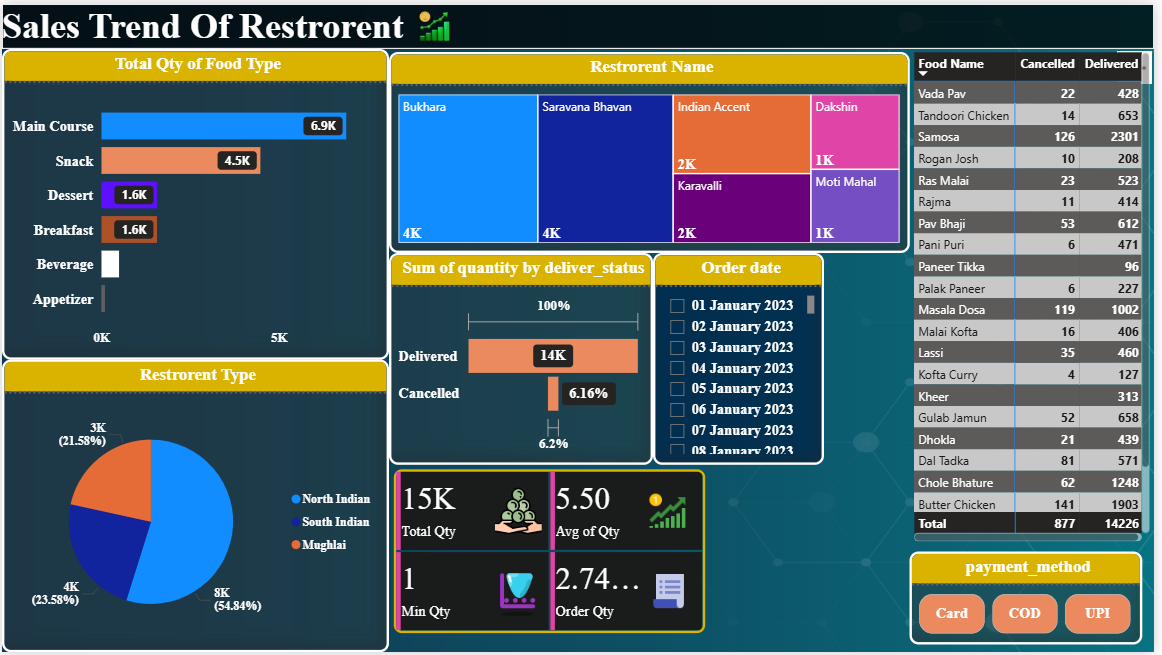

This screenshot's page, from the dashboard's own definition file:
{"tool":"powerbi","page":{"name":"Sales Review","canvas":[1280,720],"ordinal":0},"visuals":[{"type":"clusteredBarChart","title":"Total Qty of Food Type","fields":{"Category":["Food_Details.Food_Type"],"Y":["Sum(Part 1 - To- 10 - Orders Data.quantity)"]},"box":[0,50,430,345],"z":0},{"type":"shape","box":[0,0,1280.4,49.3],"z":1000},{"type":"cardVisual","fields":{"Data":["Sum(Part 1 - To- 10 - Orders Data.quantity)","Avg(Part 1 - To- 10 - Orders Data.quantity)","Min(Part 1 - To- 10 - Orders Data.quantity)","CountNonNull(Part 1 - To- 10 - Orders Data.order_id)"]},"box":[410,511.7,396.7,193.3],"z":2000},{"type":"image","box":[429.5,0,101.8,49.3],"z":3000},{"type":"pieChart","title":"Restrorent Type","fields":{"Y":["Sum(Part 1 - To- 10 - Orders Data.quantity)"],"Category":["Resturant_Details.Resturant_type"]},"box":[0,395,430,325],"z":4000},{"type":"funnel","fields":{"Y":["Sum(Part 1 - To- 10 - Orders Data.quantity)"],"Category":["Part 1 - To- 10 - Orders Data.deliver_status"]},"box":[430,276.7,293.3,235],"z":5000},{"type":"treemap","title":"Restrorent Name","fields":{"Values":["Sum(Part 1 - To- 10 - Orders Data.quantity)"],"Group":["Resturant_Details.Resturant_Name"]},"box":[430,53.3,578.3,223.3],"z":6000},{"type":"advancedSlicerVisual","fields":{"Values":["Part 1 - To- 10 - Orders Data.payment_method"]},"box":[1008.3,608.3,258.3,103.3],"z":7000},{"type":"pivotTable","fields":{"Rows":["Food_Details.Food Name"],"Columns":["Part 1 - To- 10 - Orders Data.deliver_status"],"Values":["Sum(Part 1 - To- 10 - Orders Data.quantity)"]},"box":[1008.3,48.3,271.7,553.3],"z":8000},{"type":"slicer","title":"Order date","fields":{"Values":["Part 1 - To- 10 - Orders Data.orderDate"]},"box":[723.3,276.7,190,235],"z":9000}]}

Visuals, with their boxes in screenshot pixels (x1, y1, x2, y2), scaled from the page's 1280x720 canvas onto the 1162x655 screenshot:
"Total Qty of Food Type" clusteredBarChart: (0, 45, 390, 359)
shape: (0, 0, 1161, 45)
cardVisual - Sum(Part 1 - To- 10 - Orders Data.quantity) x Avg(Part 1 - To- 10 - Orders Data.quantity): (372, 466, 732, 641)
image: (390, 0, 482, 45)
"Restrorent Type" pieChart: (0, 359, 390, 654)
funnel - Sum(Part 1 - To- 10 - Orders Data.quantity) x Part 1 - To- 10 - Orders Data.deliver_status: (390, 252, 657, 466)
"Restrorent Name" treemap: (390, 48, 915, 252)
advancedSlicerVisual - Part 1 - To- 10 - Orders Data.payment_method: (915, 553, 1150, 647)
pivotTable - Food_Details.Food Name x Part 1 - To- 10 - Orders Data.deliver_status: (915, 44, 1161, 547)
"Order date" slicer: (657, 252, 829, 466)
